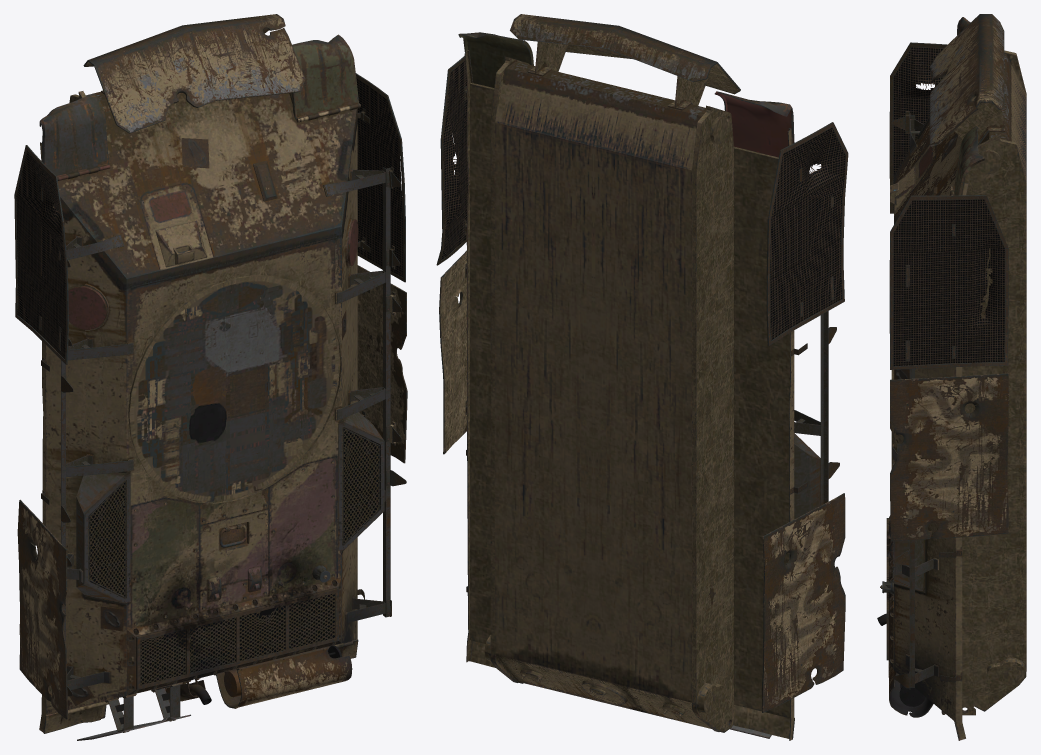
File: Hull_01.glb
3 renders of one model, left to right at view 1: azimuth 30°, elevation 25°; view 2: azimuth 150°, elevation 25°; view 3: azimuth 270°, elevation 25°, orthographic. The views are drawn at different scales.
Parts seen in each view (by area): view 1: set_0_group_0, set_0_group_1; view 2: set_0_group_0; view 3: set_0_group_0, set_0_group_1.
Part boxes in pixels (<box>): set_0_group_0: <box>14,14,407,740</box>; set_0_group_1: <box>69,94,346,705</box>; set_0_group_0: <box>436,14,848,740</box>; set_0_group_0: <box>877,14,1026,740</box>; set_0_group_1: <box>894,133,957,379</box>.
Bounding box in the file's own units: 3.54 × 6.54 × 1.4.
Materials: 2 (2 with a texture image).
